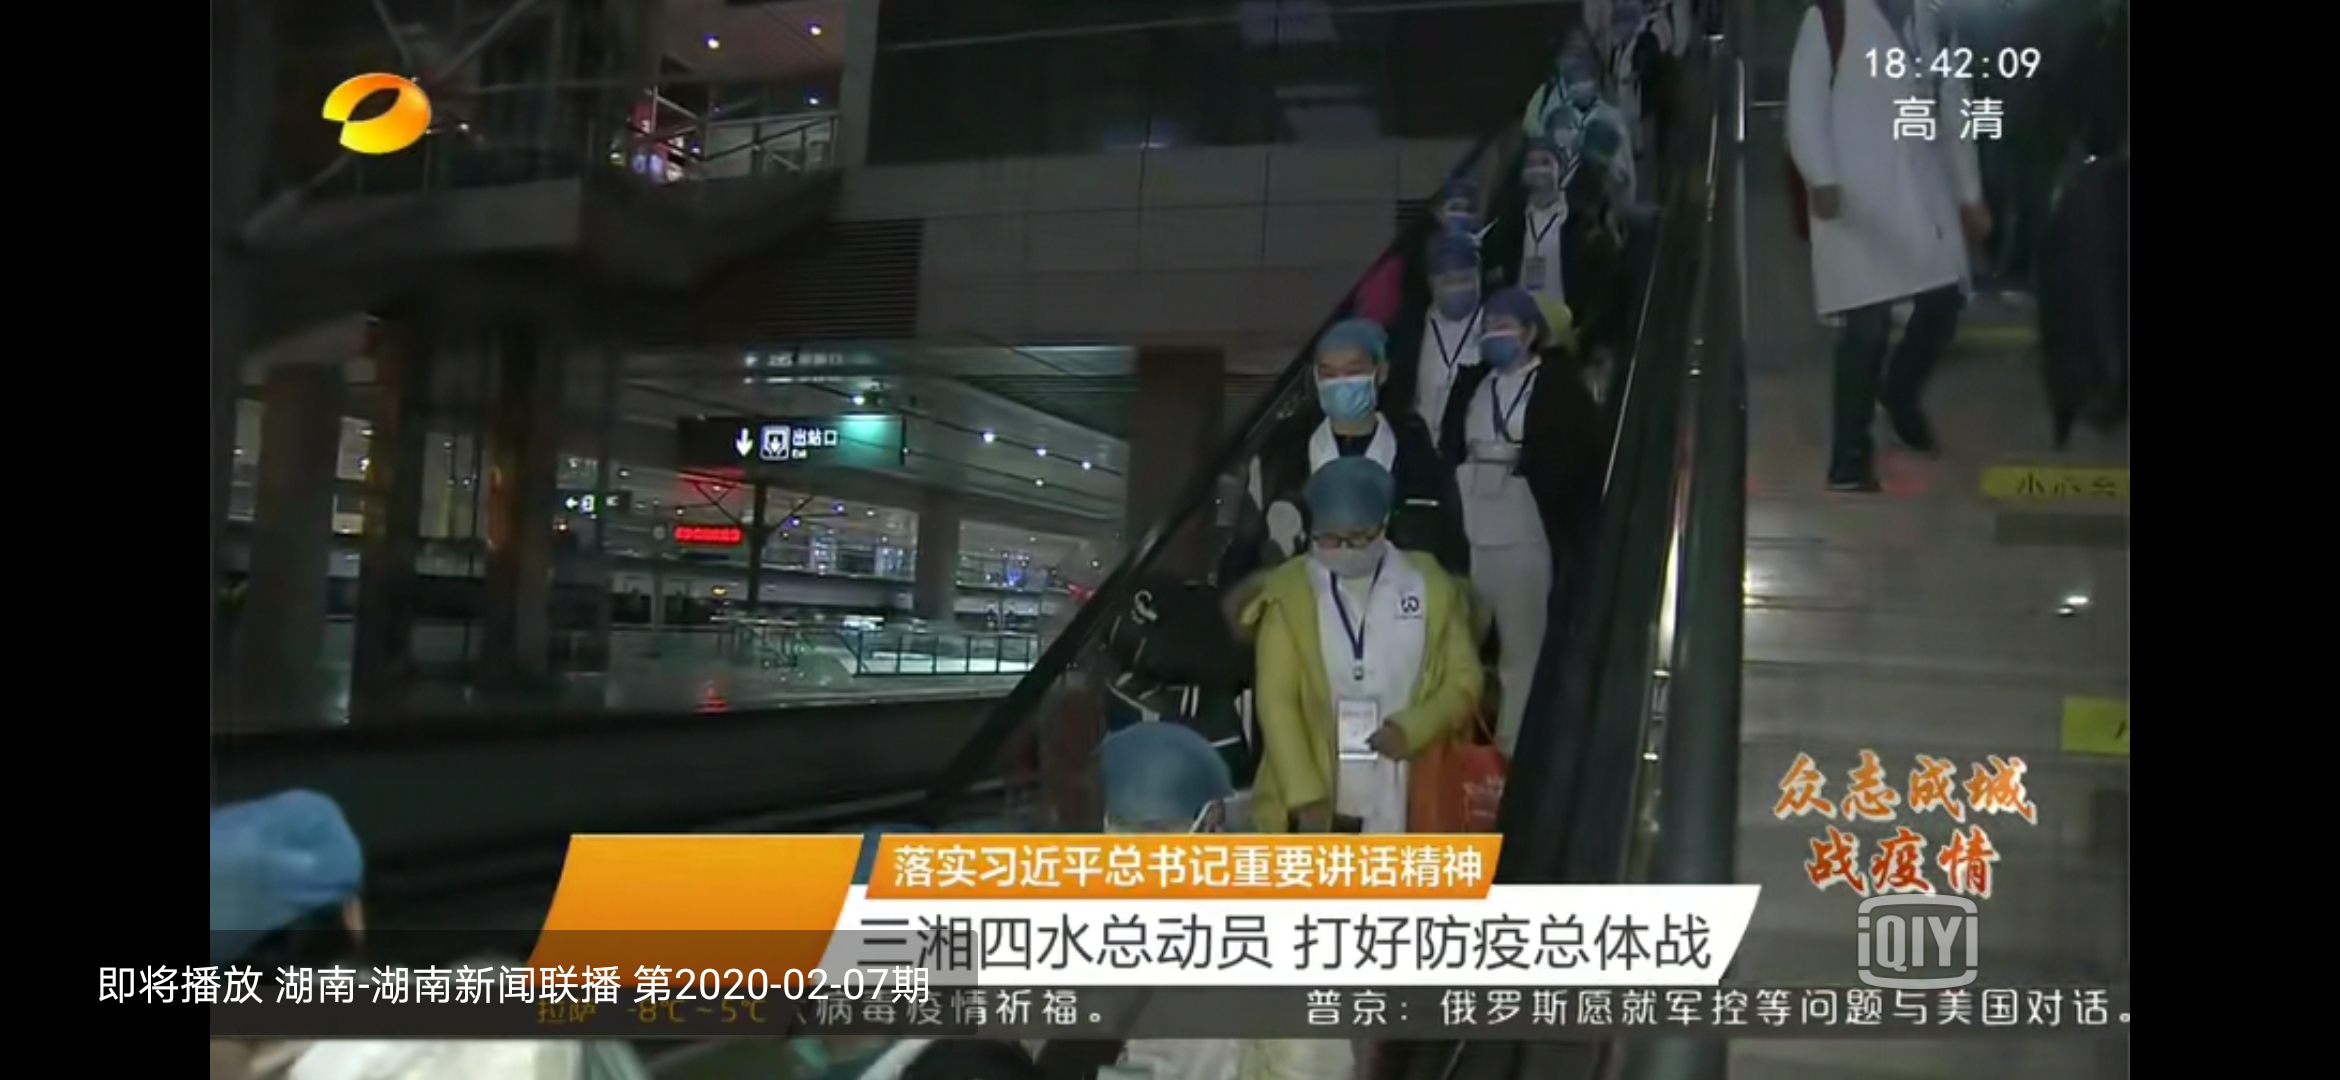correctlyWear: (1301, 495, 1392, 577), (1313, 355, 1392, 424), (1430, 260, 1483, 321), (1430, 180, 1483, 236), (1480, 312, 1528, 367), (1515, 155, 1562, 201), (1564, 66, 1600, 107), (1551, 110, 1582, 151)
